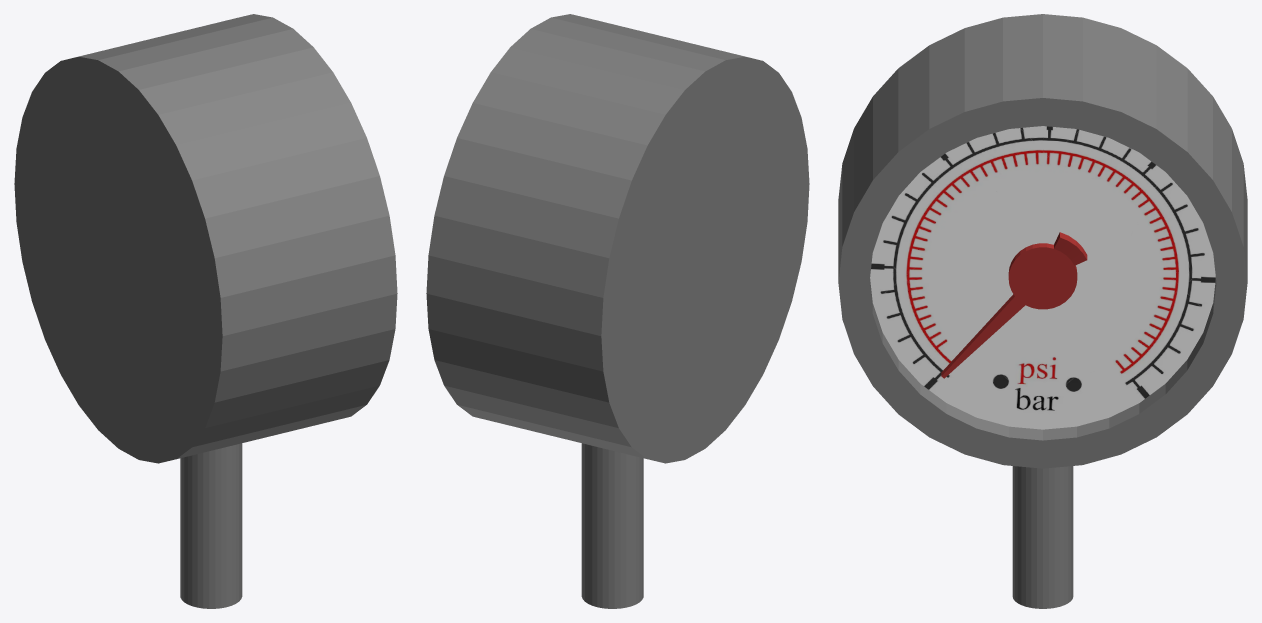
File: Manometro.fbx
The picture shows the model from 3 angles, left to right: view 1: azimuth 30°, elevation 25°; view 2: azimuth 150°, elevation 25°; view 3: azimuth 270°, elevation 25°; orthographic projection.
Parts seen in each view (by area): view 1: Manometer; view 2: Manometer; view 3: Manometer, Aguja.
Boxes of the visible parts, x1,y1,x2,y2 form: Manometer: (14,14,397,608); Manometer: (426,14,809,608); Manometer: (838,14,1247,608); Aguja: (941,232,1087,378).
Bounding box in the file's own units: 0.173 × 0.5171 × 0.3566.
